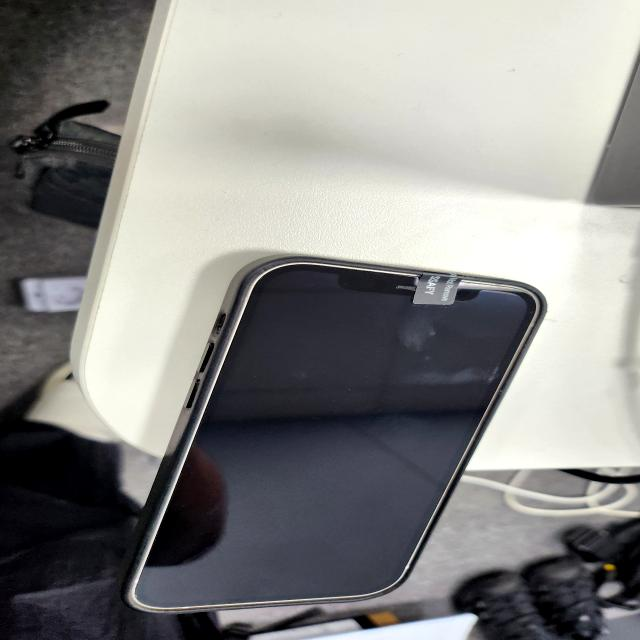phone: (131, 255, 543, 614)
sticker: (411, 267, 466, 310)
